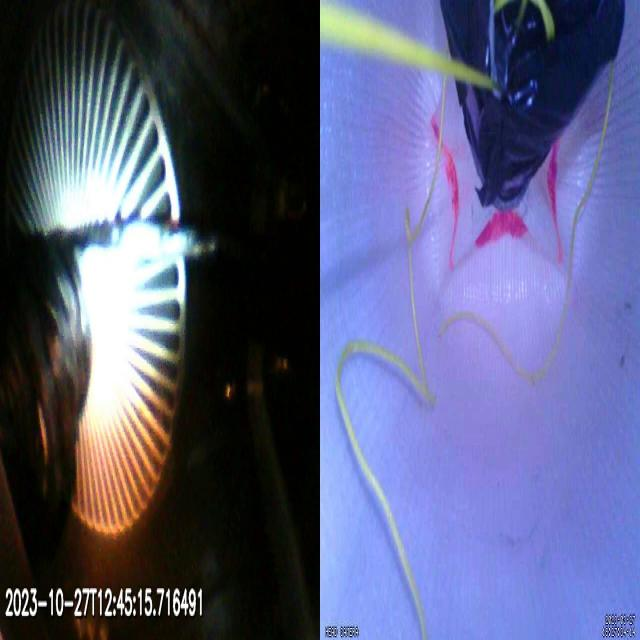red-circle: (430, 112, 560, 248)
